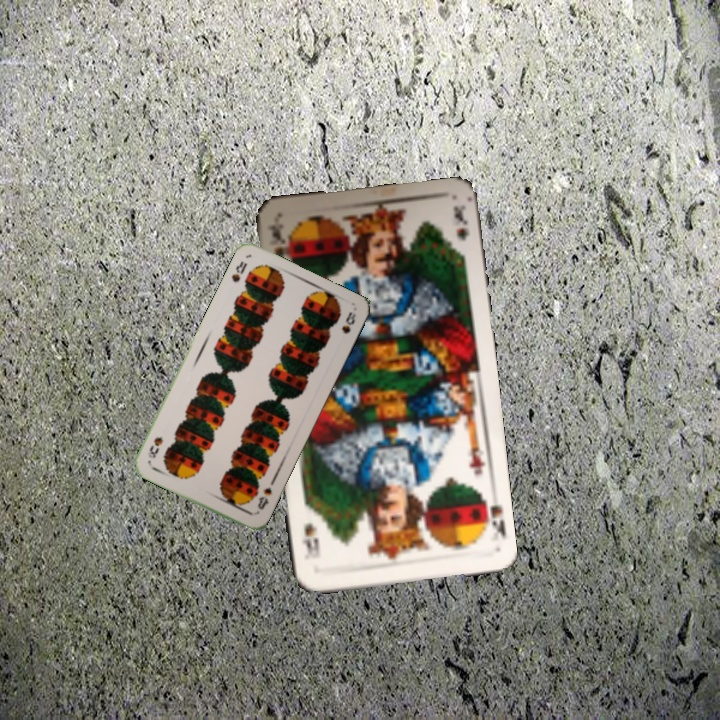S8: (228, 257, 250, 285), (253, 483, 274, 512)
SK: (477, 491, 507, 542), (263, 220, 290, 262)
